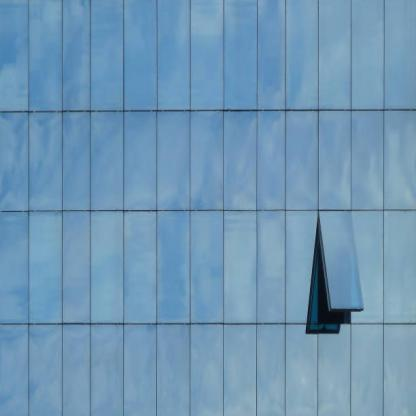window: (31, 3, 59, 108), (127, 218, 154, 319), (194, 5, 221, 105), (93, 218, 119, 318), (160, 218, 186, 318), (128, 4, 153, 108), (95, 4, 120, 107), (229, 4, 254, 107), (195, 218, 220, 317), (34, 218, 58, 321), (3, 2, 26, 109), (65, 3, 88, 110), (323, 4, 347, 105), (228, 219, 252, 319), (162, 6, 186, 105), (160, 117, 186, 207), (292, 4, 315, 104), (127, 330, 154, 414), (291, 218, 313, 321), (93, 118, 119, 205), (228, 117, 253, 207), (357, 3, 379, 105), (128, 117, 153, 206), (290, 117, 315, 206), (389, 217, 411, 318), (34, 118, 59, 206), (196, 116, 220, 207), (324, 116, 348, 207), (66, 218, 87, 320), (260, 219, 282, 316), (356, 114, 379, 206), (355, 329, 380, 411), (95, 331, 120, 413), (389, 116, 412, 204), (227, 332, 252, 412), (33, 329, 57, 412), (66, 117, 88, 207), (261, 5, 281, 104), (390, 6, 413, 92), (161, 334, 185, 414), (6, 219, 25, 320), (291, 329, 314, 412), (389, 329, 412, 410), (66, 330, 88, 413), (196, 334, 219, 412), (6, 118, 26, 207), (4, 330, 25, 411), (262, 331, 282, 413), (262, 117, 280, 206)
